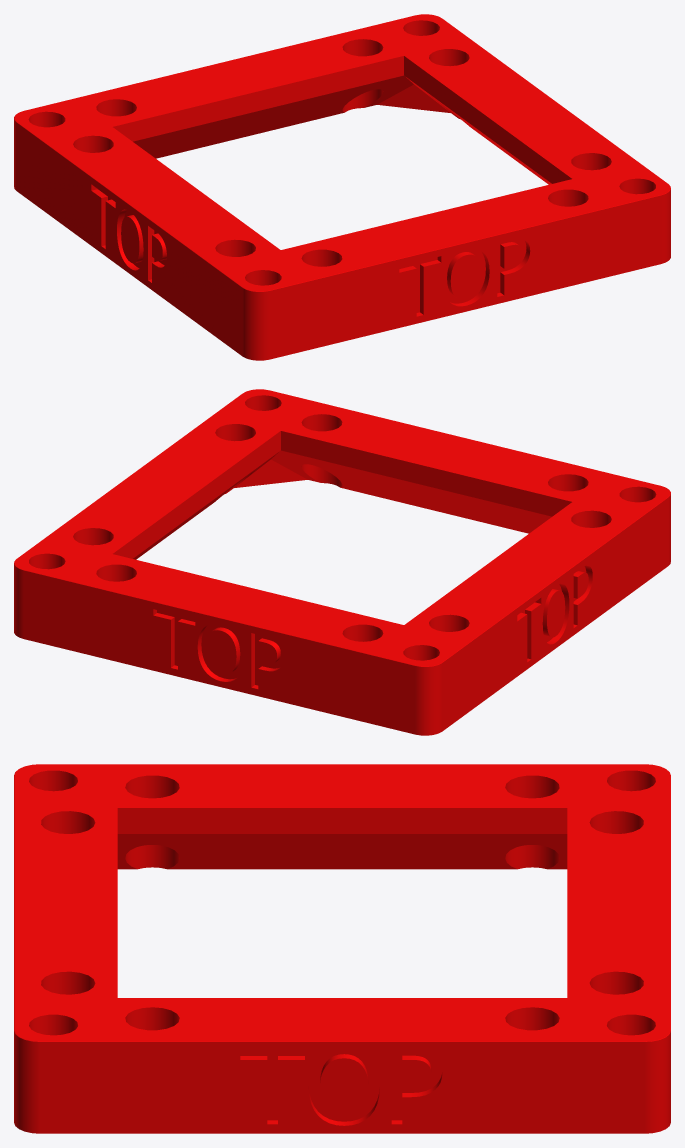
The model's file is Cube 1x1 V5_Cube 1x1 Top V5.obj.
3 views of the same model, one above another, from view 1: azimuth 30°, elevation 25°; view 2: azimuth 150°, elevation 25°; view 3: azimuth 270°, elevation 25° (orthographic). The views are drawn at different scales.
Parts seen in each view (by area): view 1: Solid1; view 2: Solid1; view 3: Solid1.
Part boxes in pixels (bbox=[...]): Solid1: bbox=[14, 14, 670, 360]; Solid1: bbox=[14, 389, 670, 735]; Solid1: bbox=[14, 764, 670, 1133].
Bounding box in the file's own units: 49.8 × 7.7 × 49.8.
